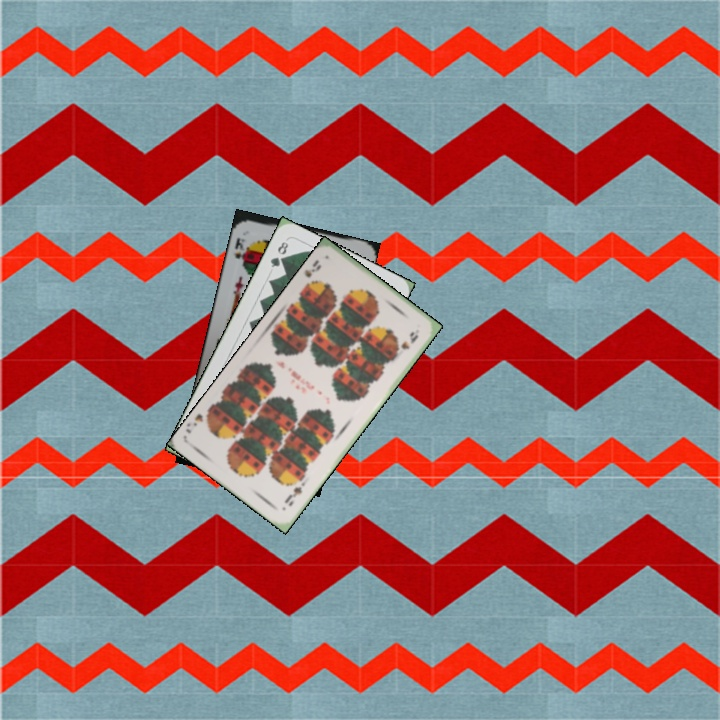G8: (266, 237, 291, 270)
S9: (300, 256, 324, 291), (280, 482, 305, 509)
SK: (230, 233, 250, 267)
